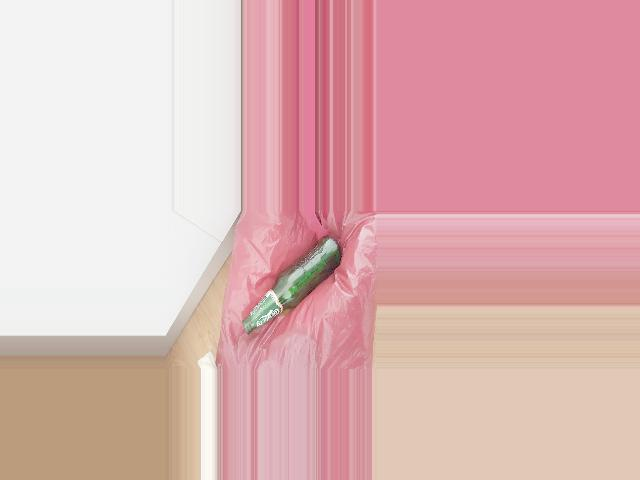beer: (242, 237, 342, 335)
